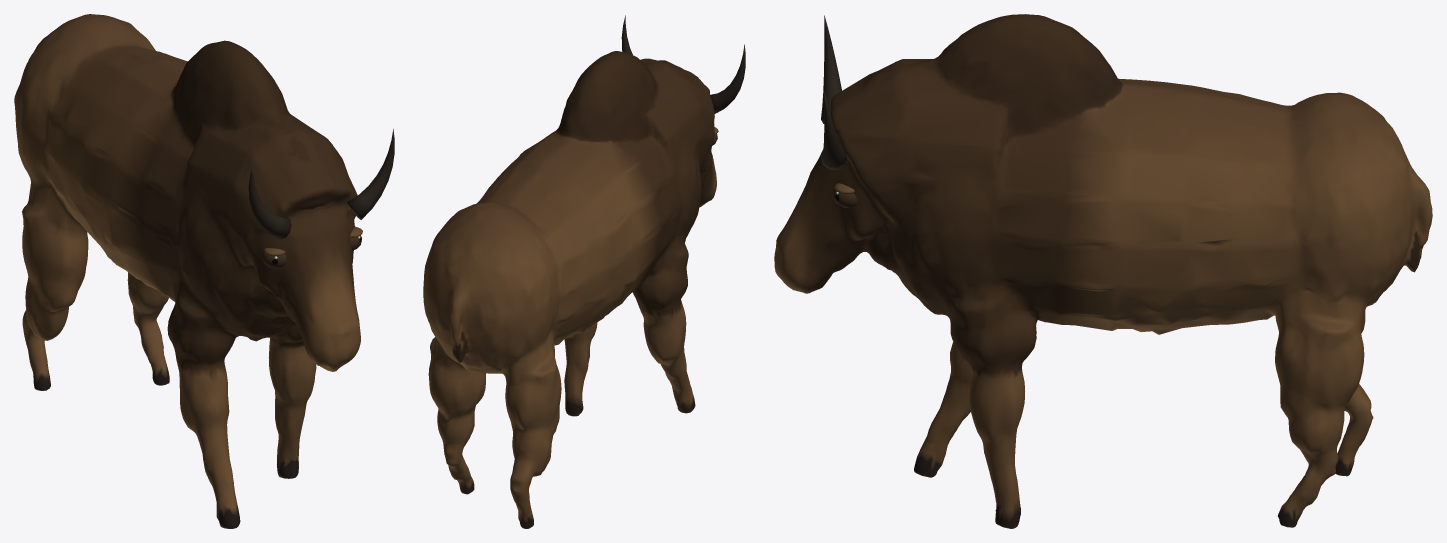
File: BisonPriscus.fbx
3 renders of one model, left to right at view 1: azimuth 30°, elevation 25°; view 2: azimuth 150°, elevation 25°; view 3: azimuth 270°, elevation 25°, orthographic. The views are drawn at different scales.
Visible parts, largest first — view 1: BisonPriscus; view 2: BisonPriscus; view 3: BisonPriscus.
Part boxes in pixels (x1,y1,x2,y2): BisonPriscus: [14, 14, 394, 528]; BisonPriscus: [423, 15, 745, 528]; BisonPriscus: [774, 14, 1432, 528].
Size of the model in its own units: 0.5487 by 1.42 by 1.75.
